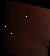plaque psoriasis: (40, 6, 50, 56), (11, 52, 38, 56)
